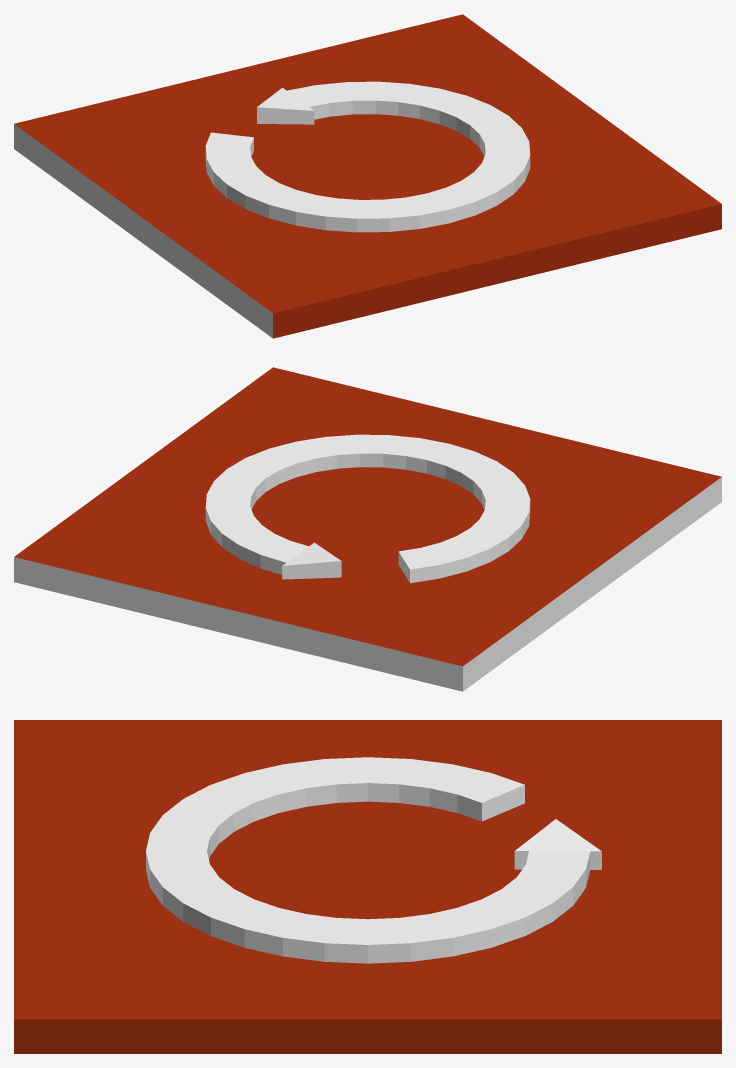
The model's file is repeat.obj.
The picture shows the model from 3 angles, top to bottom: view 1: azimuth 30°, elevation 25°; view 2: azimuth 150°, elevation 25°; view 3: azimuth 270°, elevation 25°; orthographic projection. The views are drawn at different scales.
Visible parts, largest first — view 1: Cube; view 2: Cube; view 3: Cube.
Part boxes in pixels (x1,y1,x2,y2): Cube: (14, 14, 721, 338); Cube: (14, 367, 721, 691); Cube: (14, 720, 721, 1053).
Size of the model in its own units: 2 by 0.1781 by 2.
